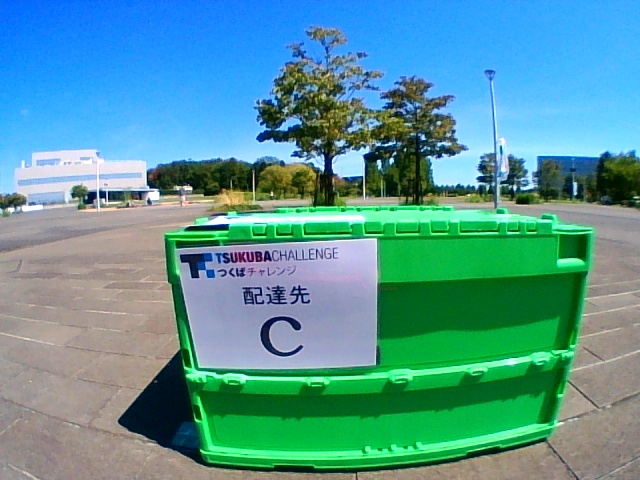green_box: (165, 206, 593, 469)
tag_c: (203, 248, 371, 367)
